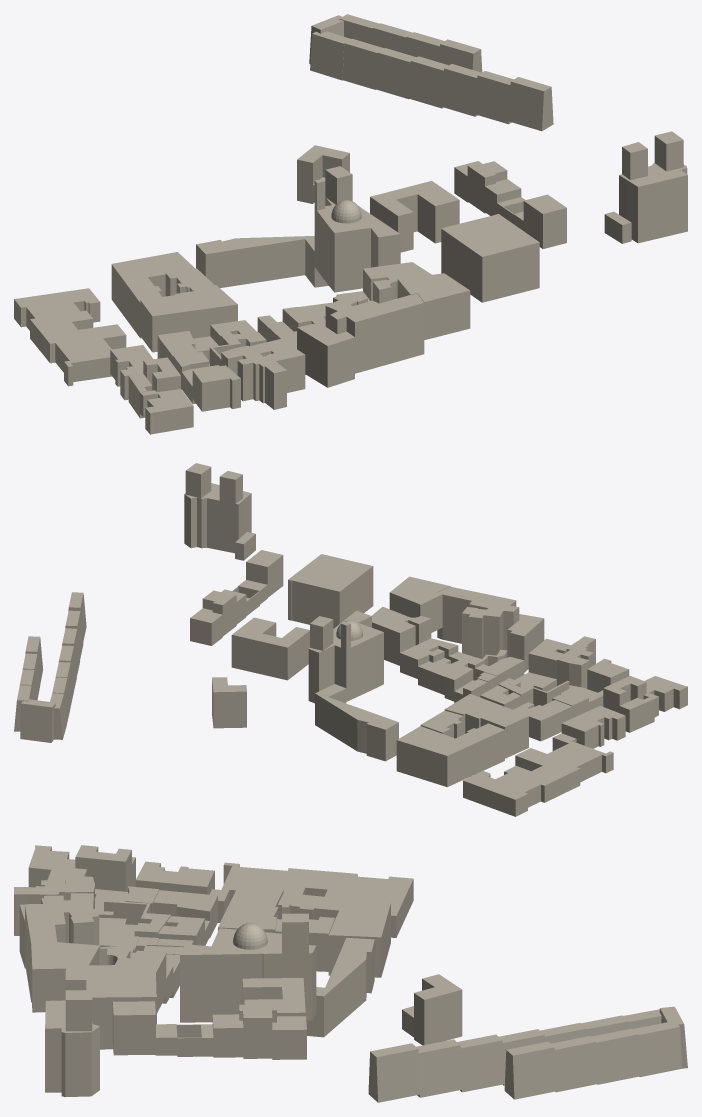
The model's file is bormla_61_28_far.glb.
3 renders of one model, top to bottom at view 1: azimuth 30°, elevation 25°; view 2: azimuth 150°, elevation 25°; view 3: azimuth 270°, elevation 25°, orthographic. The views are drawn at different scales.
Visible parts, largest first — view 1: geometry_0; view 2: geometry_0; view 3: geometry_0.
Part boxes in pixels (x1,y1,x2,y2): geometry_0: (14,14,687,434); geometry_0: (14,463,687,816); geometry_0: (14,845,687,1102).
Size of the model in its own units: 191 by 54.13 by 177.
